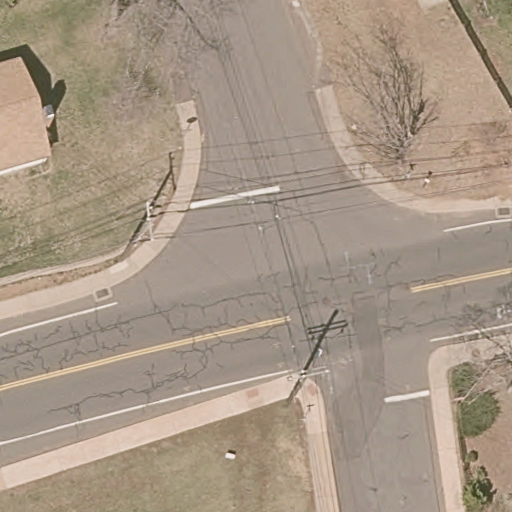DT: (286, 364, 330, 414), (130, 199, 163, 249)
